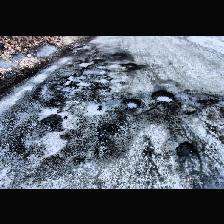pothole: (42, 113, 62, 130), (151, 88, 175, 102), (122, 96, 142, 110), (96, 123, 118, 135), (176, 141, 194, 155), (45, 94, 63, 106), (119, 61, 136, 67), (111, 51, 125, 57), (68, 84, 78, 89), (62, 78, 70, 84)
